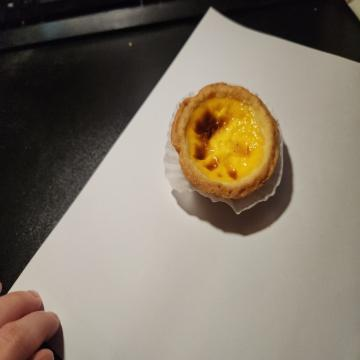EggTart: (171, 81, 280, 200)
